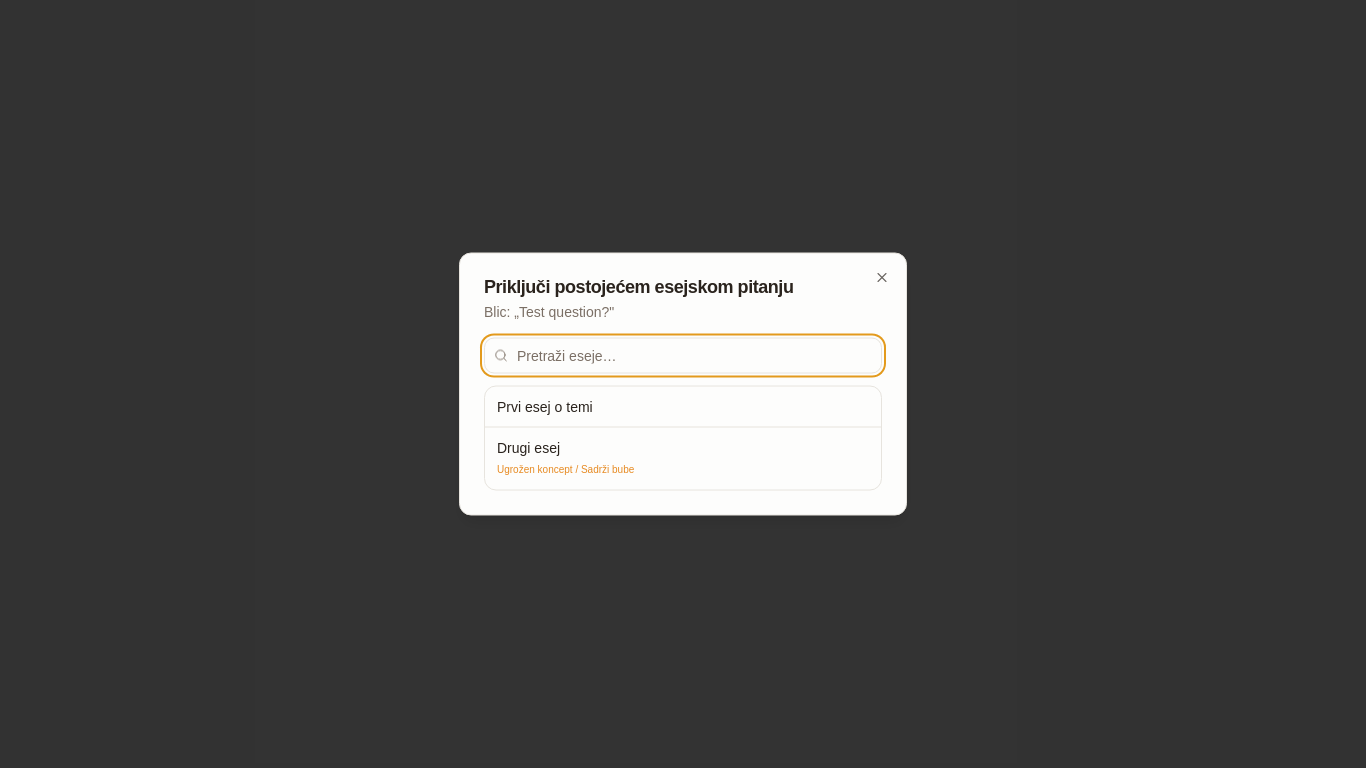
Test: card saga UI (step 3) › AttachEssayDialog › filters essays by search query
Type "Drugi" into the field with placeholder "Pretraži eseje…" at (683, 356), box [484,338,882,374]
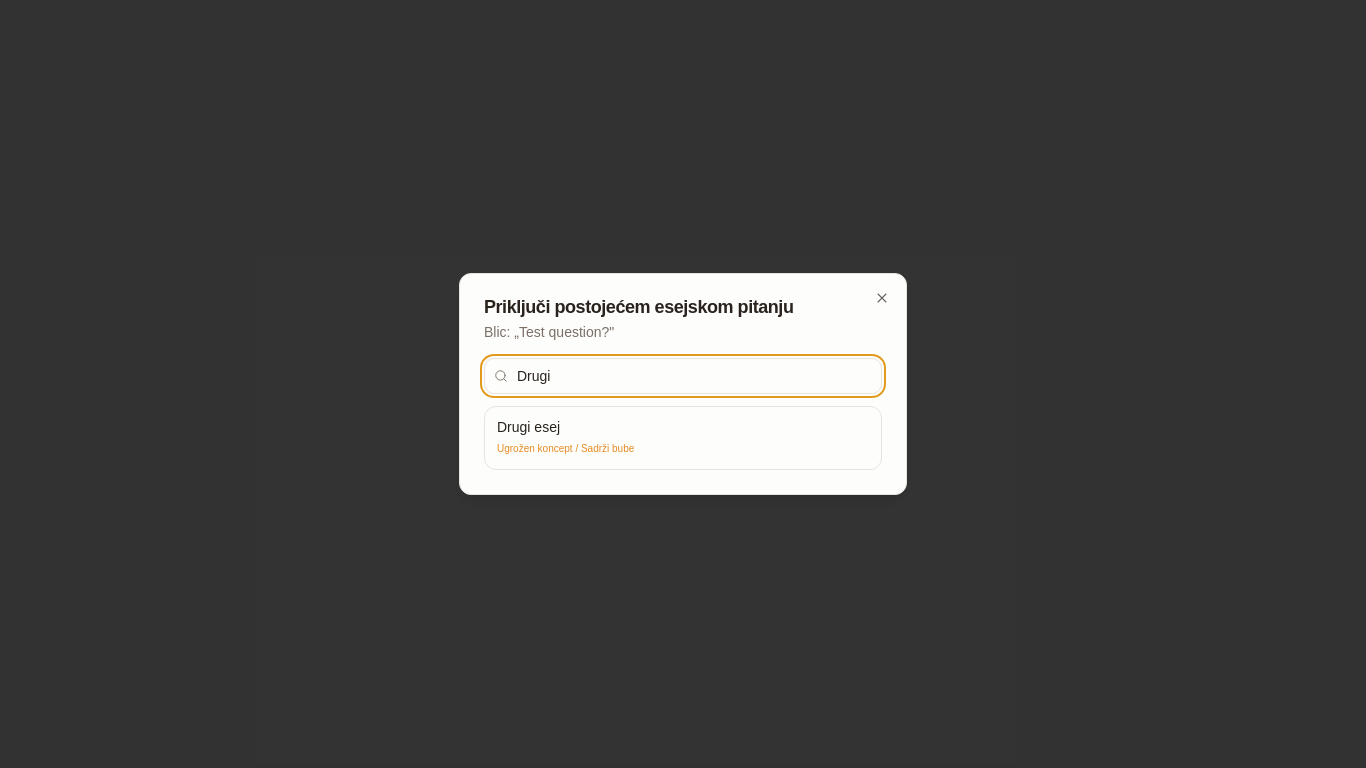
Expected: the option "Drugi esej Ugrožen koncept / Sadrži bube" is shown, [485,407,881,469]
Now the option "Prvi esej" is gone
